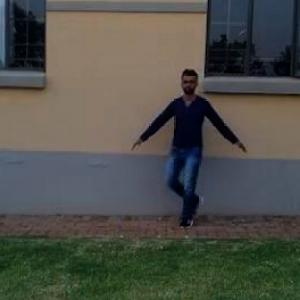land: (139, 70, 247, 236)
